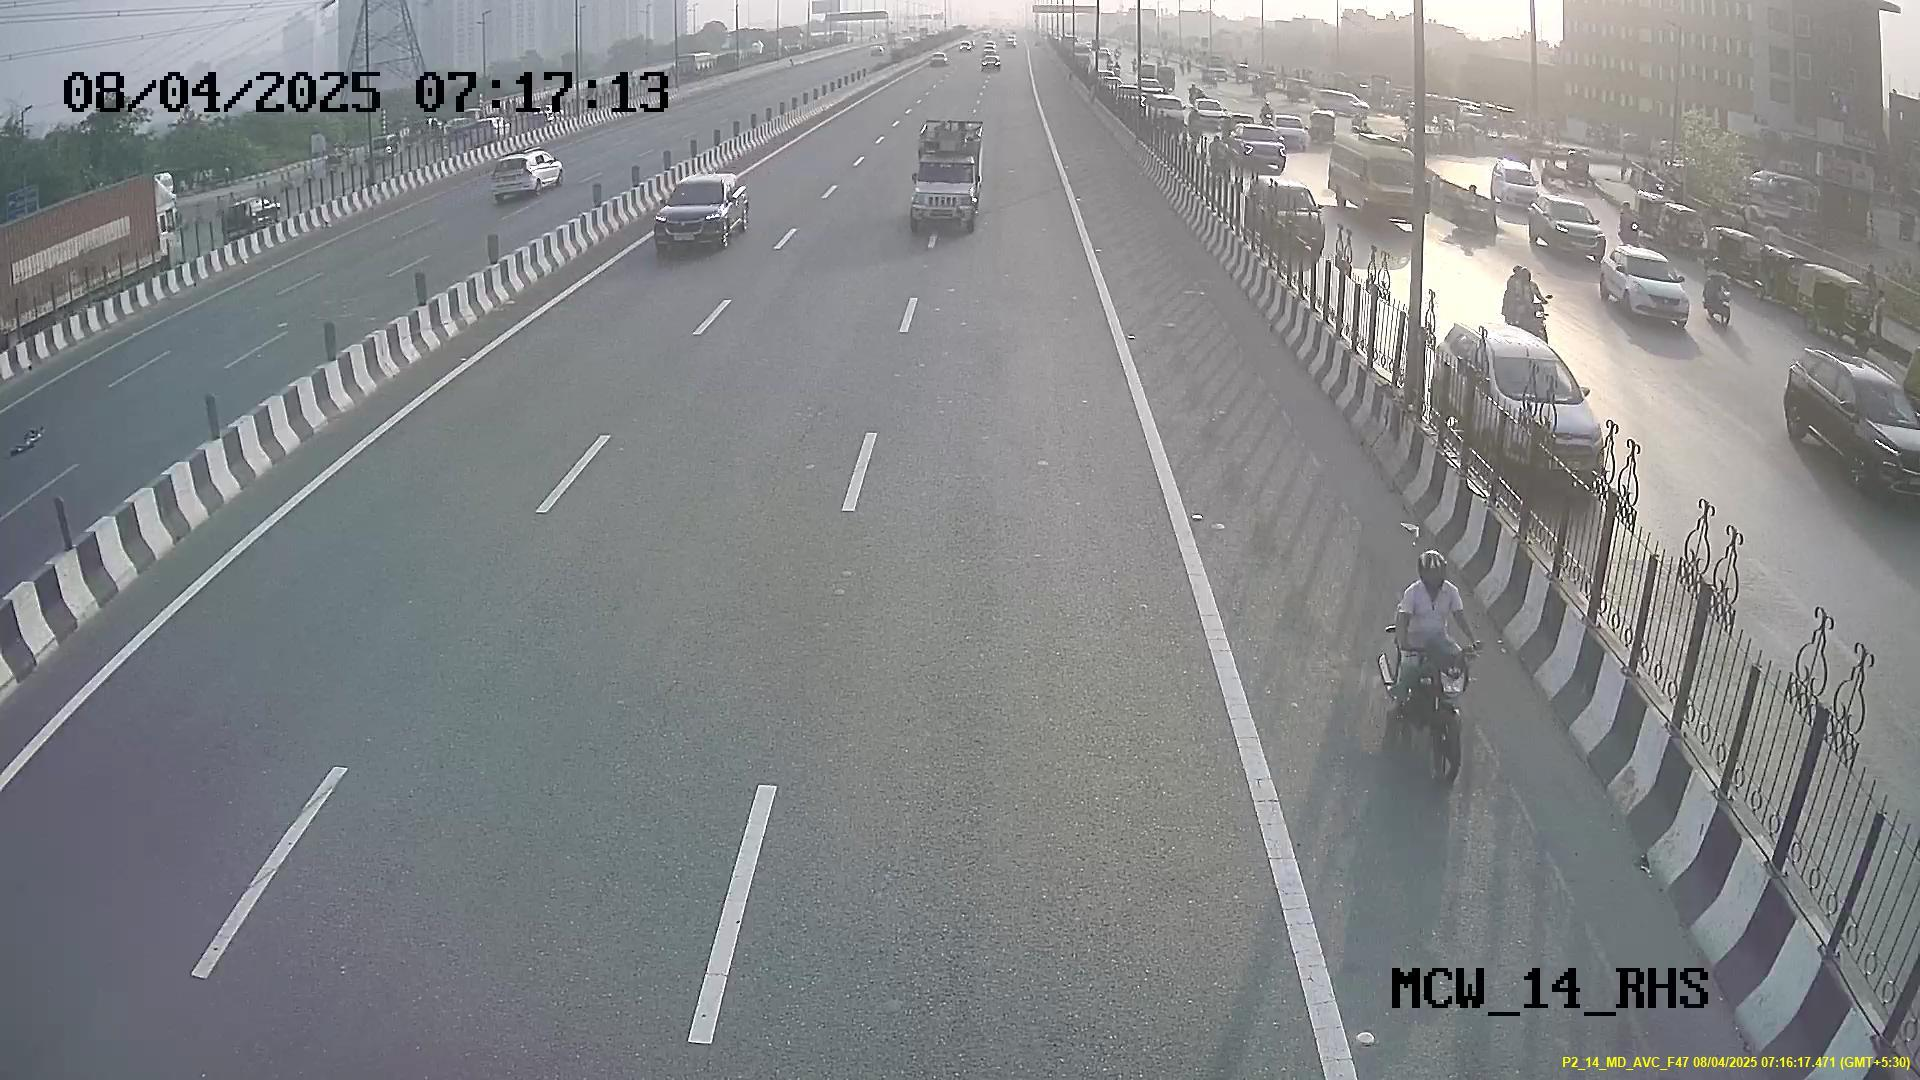bike: (1382, 549, 1487, 790)
car: (906, 153, 984, 237), (651, 177, 740, 249)
